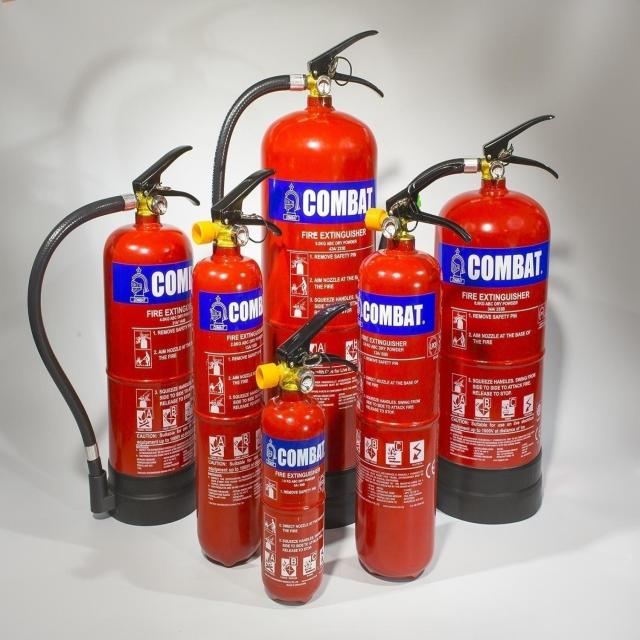fire_extinguisher: (207, 26, 389, 534), (376, 111, 561, 528), (25, 142, 205, 529), (350, 158, 474, 584), (185, 162, 285, 572), (253, 296, 362, 611)
